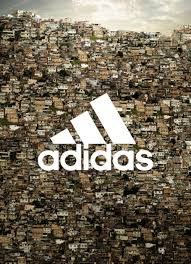adidas: (28, 94, 157, 172)
